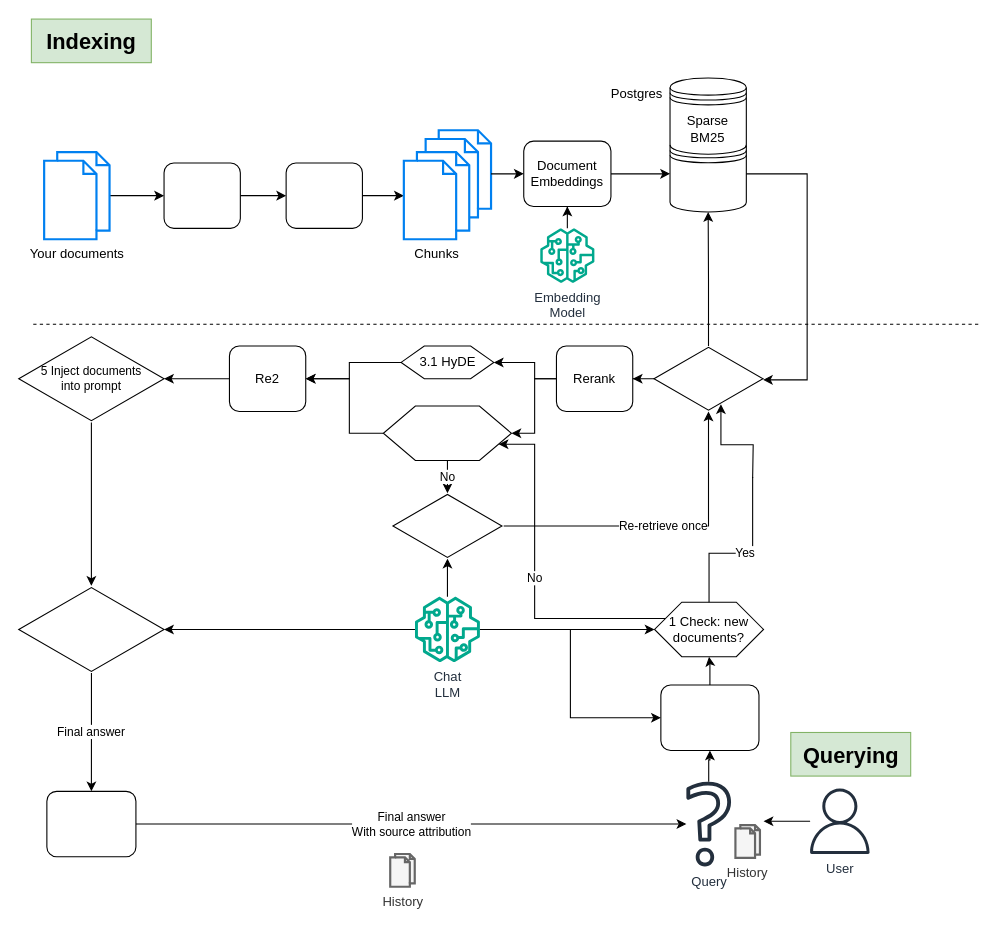
Image size: 1003x929. Some labels were removed from this diagram. Here are the shapes that lost their labels. From the top down, the box of each, then its label:
(669, 135, 746, 212): Vector DB
(163, 162, 240, 228): Loaders
(285, 162, 362, 228): Chunking
(653, 345, 763, 411): 2 Get Documents
(382, 405, 511, 461): 3.2 Answer in documents?
(392, 492, 502, 559): 4 Rewrite Query
(18, 585, 164, 673): Answer query with documents
(660, 684, 759, 750): History Summarization
(46, 790, 136, 857): 6. Provenance Attribution
